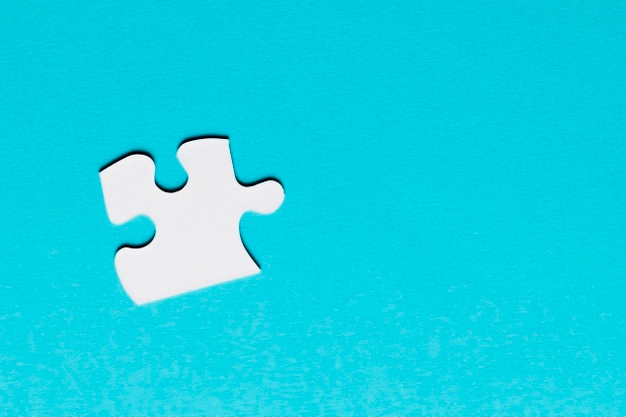puzzle piece: (81, 121, 301, 302)
